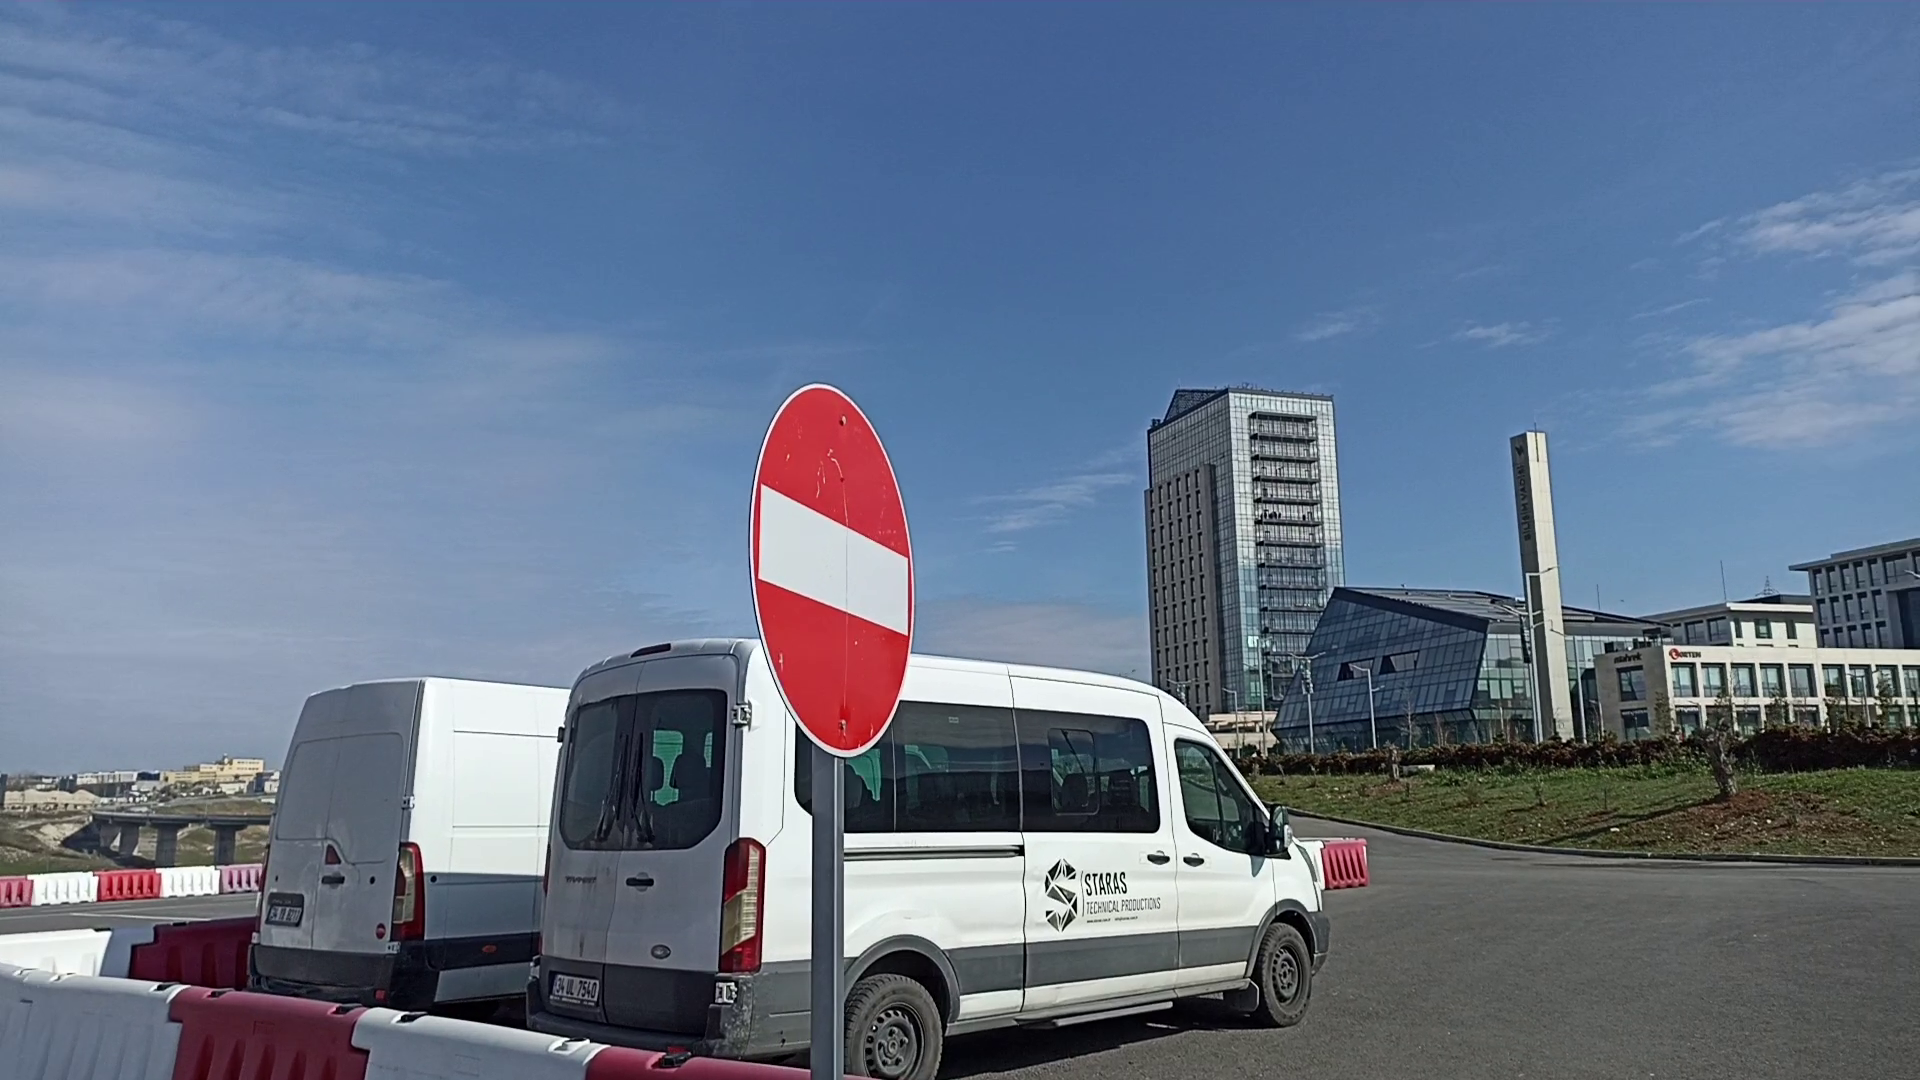noentryway: (744, 377, 918, 764)
